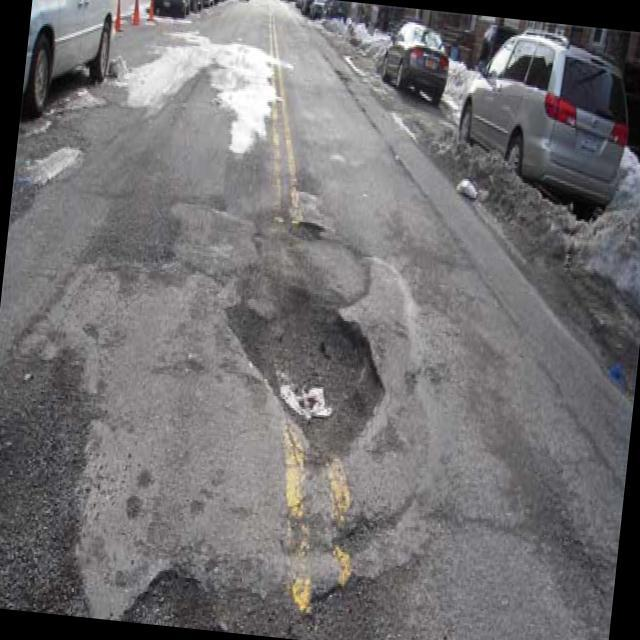Pothole: (164, 183, 460, 520), (110, 11, 297, 163)
